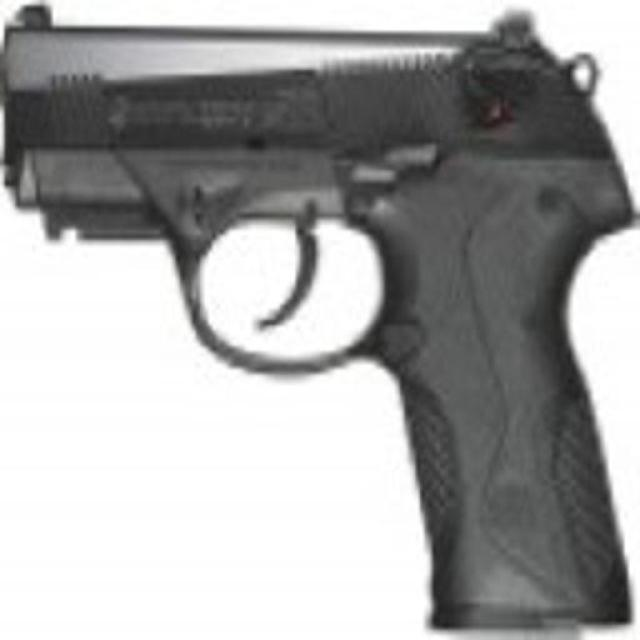pistol: (7, 15, 631, 634)
